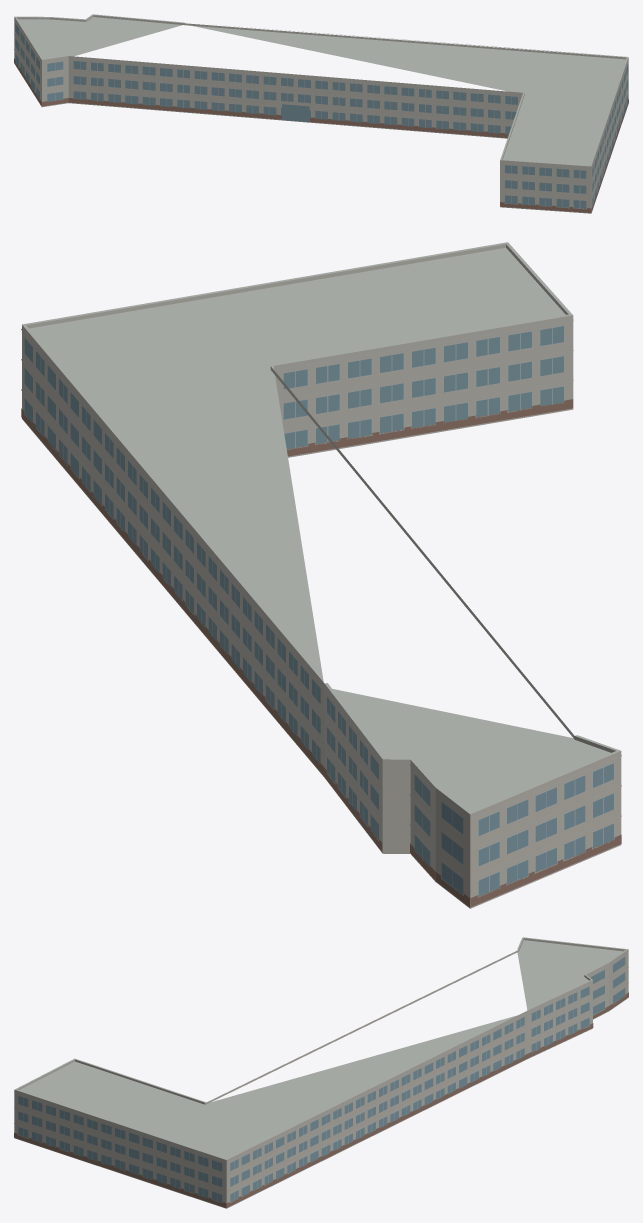
Rendered from public-b2703b79-389b-4f29-9c89-487b15169b8f.glb.
3 renders of one model, top to bottom at view 1: azimuth 30°, elevation 25°; view 2: azimuth 150°, elevation 25°; view 3: azimuth 270°, elevation 25°, orthographic. The views are drawn at different scales.
Parts seen in each view (by area): view 1: public-b2703b79-389b-4f29-9c89-487b15169b8f; view 2: public-b2703b79-389b-4f29-9c89-487b15169b8f; view 3: public-b2703b79-389b-4f29-9c89-487b15169b8f.
Part boxes in pixels (x1,y1,x2,y2): public-b2703b79-389b-4f29-9c89-487b15169b8f: (14, 14, 628, 213); public-b2703b79-389b-4f29-9c89-487b15169b8f: (21, 242, 621, 908); public-b2703b79-389b-4f29-9c89-487b15169b8f: (14, 937, 628, 1208).
Bounding box in the file's own units: 90.05 × 9.15 × 105.
